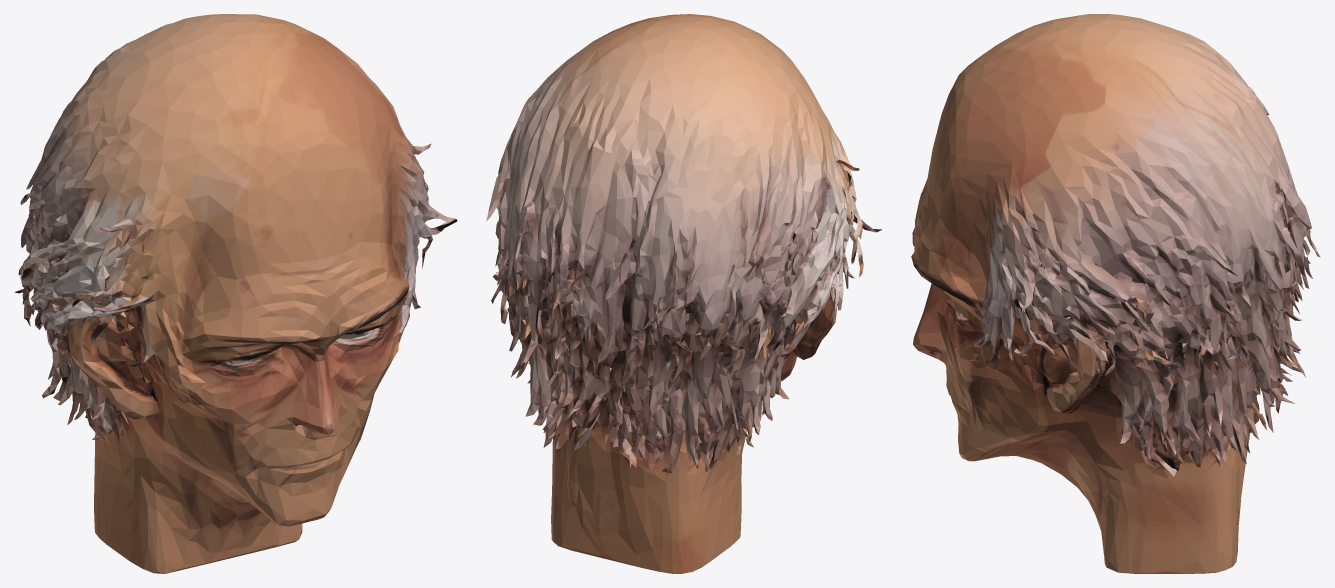
The model's file is side_healer_repaired_atlas.glb.
3 renders of one model, left to right at view 1: azimuth 30°, elevation 25°; view 2: azimuth 150°, elevation 25°; view 3: azimuth 270°, elevation 25°, orthographic. The views are drawn at different scales.
Parts seen in each view (by area): view 1: temp_mesh.ply; view 2: temp_mesh.ply; view 3: temp_mesh.ply.
Boxes of the visible parts, left/top/right/bottom form: temp_mesh.ply: left=14, top=14, right=457, bottom=573; temp_mesh.ply: left=486, top=14, right=881, bottom=573; temp_mesh.ply: left=911, top=14, right=1320, bottom=573.
Bounding box in the file's own units: 1.43 × 1.97 × 1.44.
Materials: 1 (1 with a texture image).
